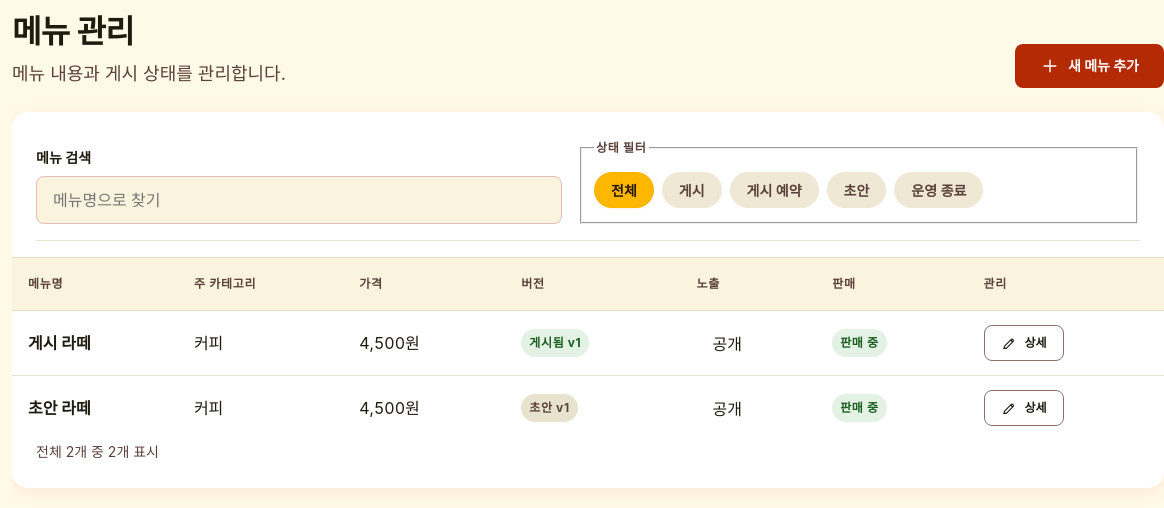
Test: 메뉴 목록 화면 › 상태 필터와 검색을 함께 걸면 둘 다 만족하는 메뉴만 남는다
The width and height of the screenshot is (1164, 508).
expect the column heading "초안 라떼" is shown: met, box top-left (12, 375), bottom-right (178, 440)
Type "라떼" into the search field labelled "메뉴 검색" at (299, 200), box top-left (36, 176), bottom-right (562, 224)
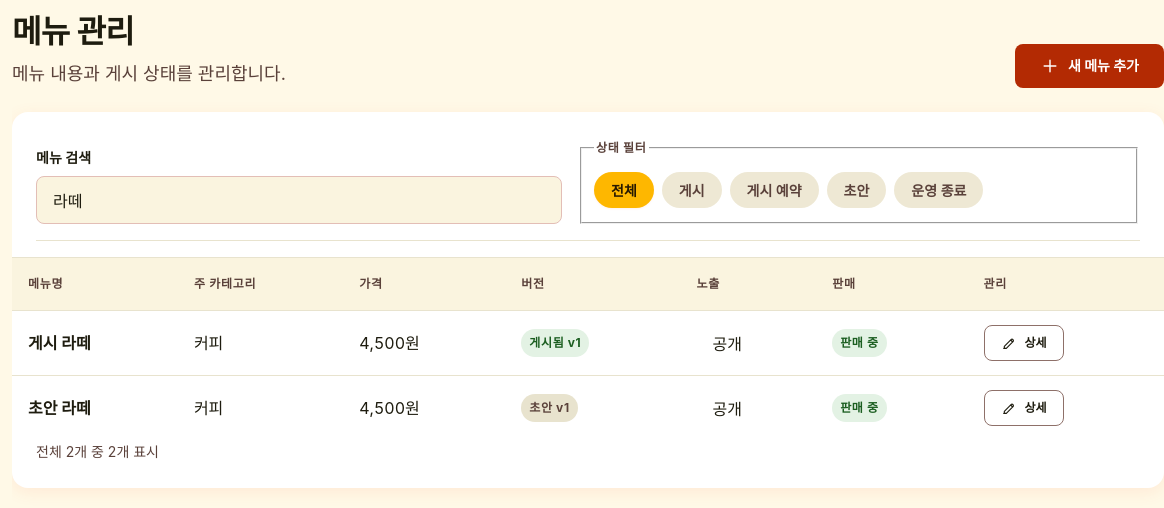
Click the button "게시" at (692, 190), box top-left (662, 172), bottom-right (722, 208)
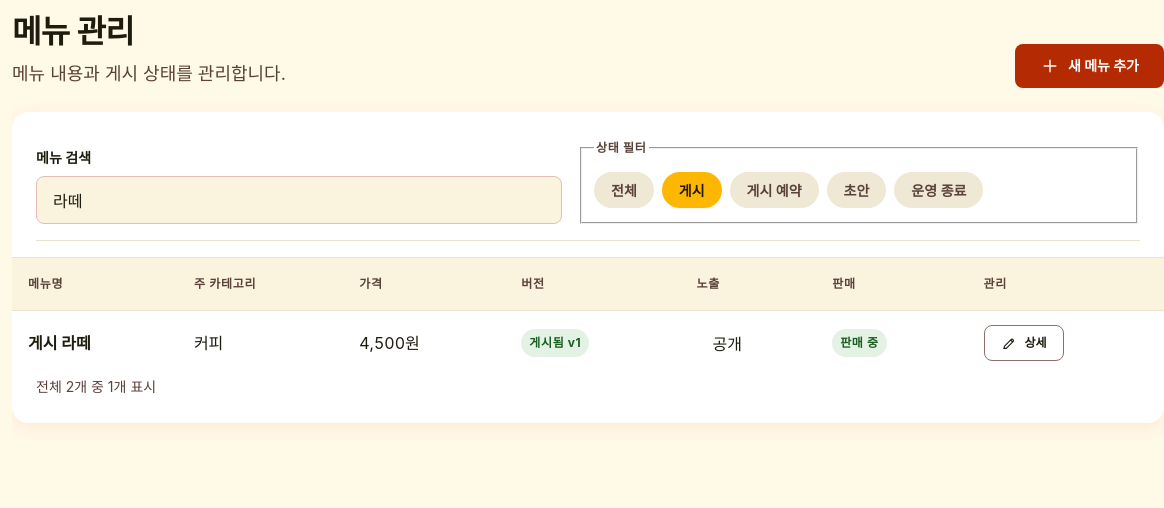
expect the column heading "게시 라떼" is shown: met, box top-left (12, 311), bottom-right (178, 375)
expect the column heading "초안 라떼" is gone: met
